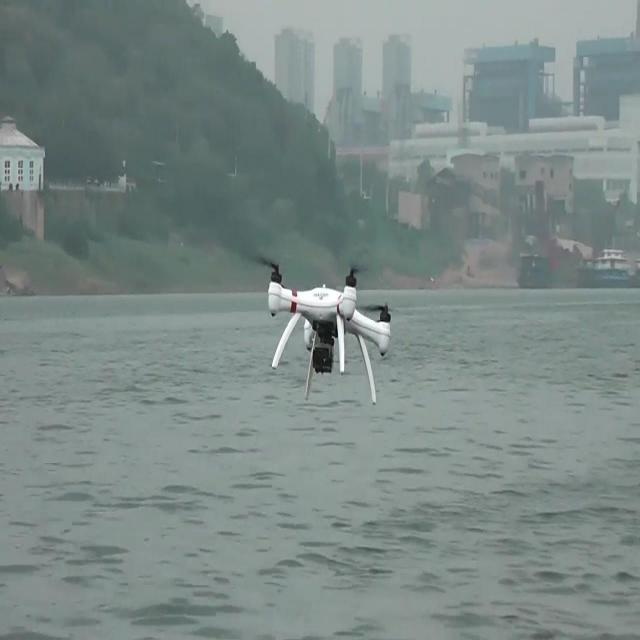UAV: (268, 263, 391, 405)
